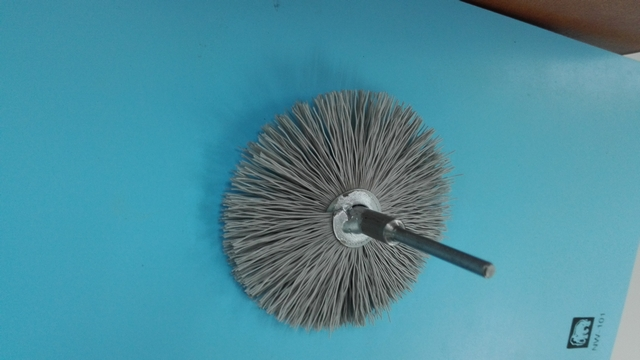TOOL: (182, 78, 533, 325), (180, 56, 442, 350), (196, 94, 444, 328)
